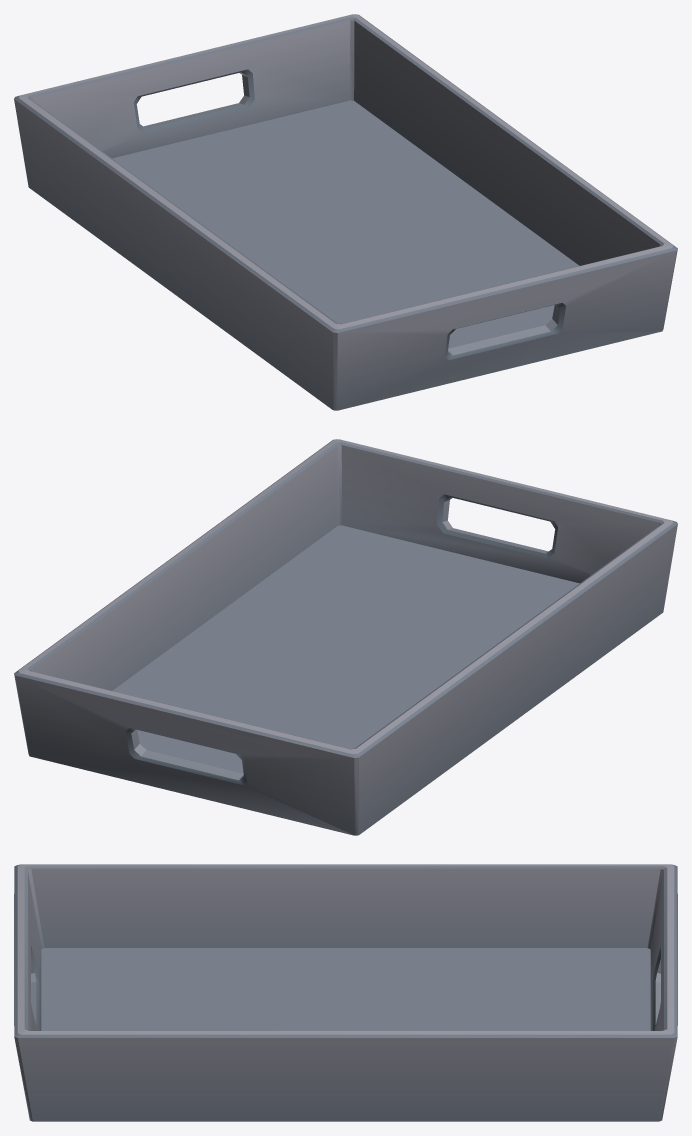
The model's file is Cake_3_LV0.glb.
3 views of the same model, one above another, from view 1: azimuth 30°, elevation 25°; view 2: azimuth 150°, elevation 25°; view 3: azimuth 270°, elevation 25° (orthographic). The views are drawn at different scales.
Parts seen in each view (by area): view 1: Cake_3_LV0; view 2: Cake_3_LV0; view 3: Cake_3_LV0.
Boxes of the visible parts, x1=… form: Cake_3_LV0: x1=14, y1=14, x2=677, y2=410; Cake_3_LV0: x1=14, y1=439, x2=677, y2=835; Cake_3_LV0: x1=14, y1=864, x2=677, y2=1121.
Bounding box in the file's own units: 0.3776 × 0.0919 × 0.6122.
Materials: 1 (1 with a texture image).
